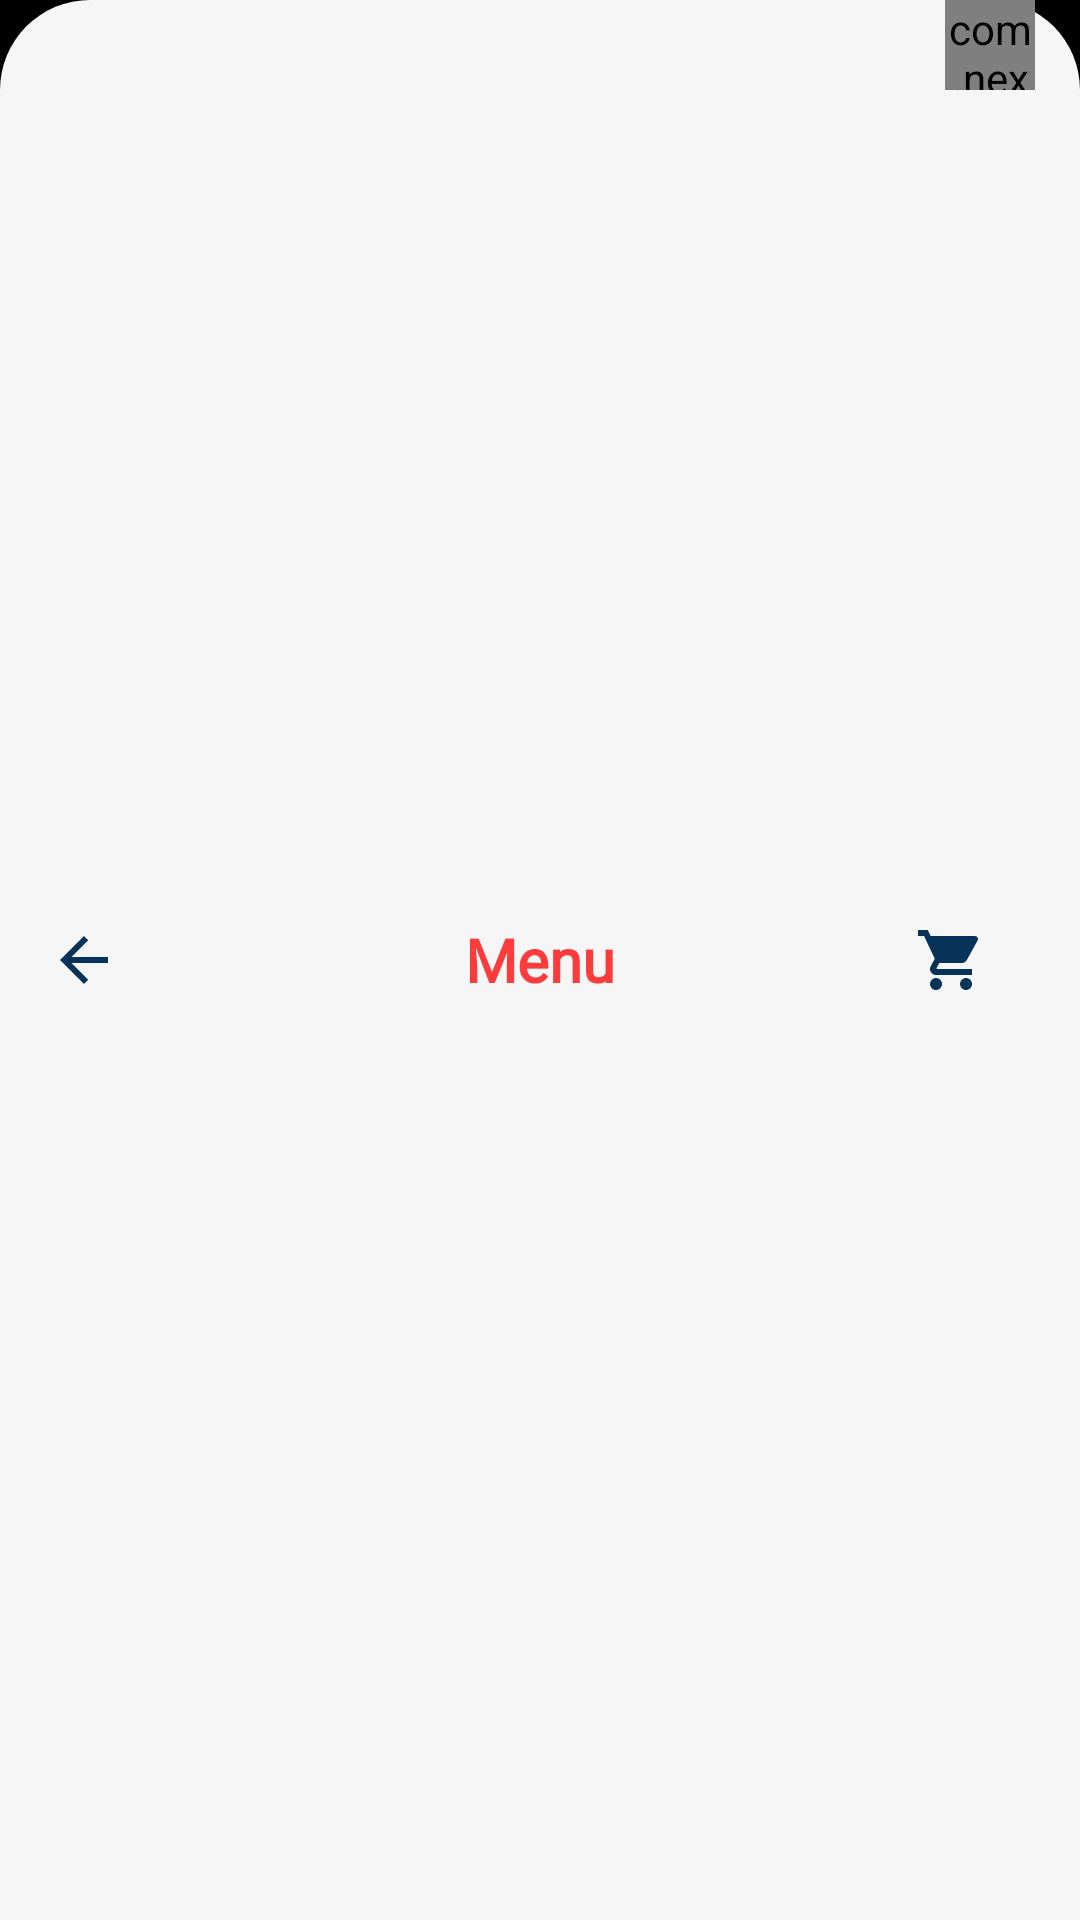

Named icons in this screenshot (1080px×1920px) and their bounding boxes, (x1, y1, x2, y2):
kembali biru: (60, 936, 108, 984)
keranjang biru: (918, 930, 978, 990)
